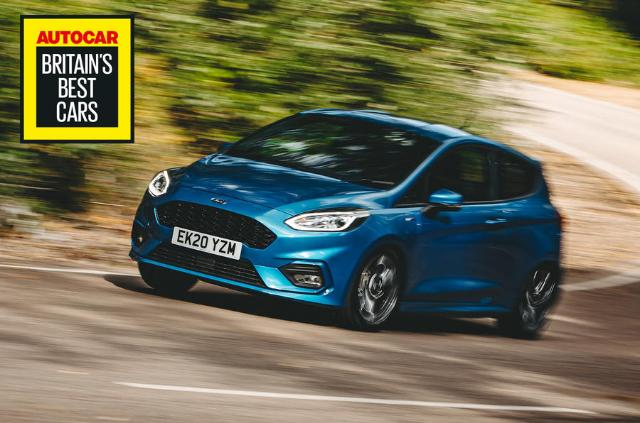ford: (128, 108, 562, 340)
